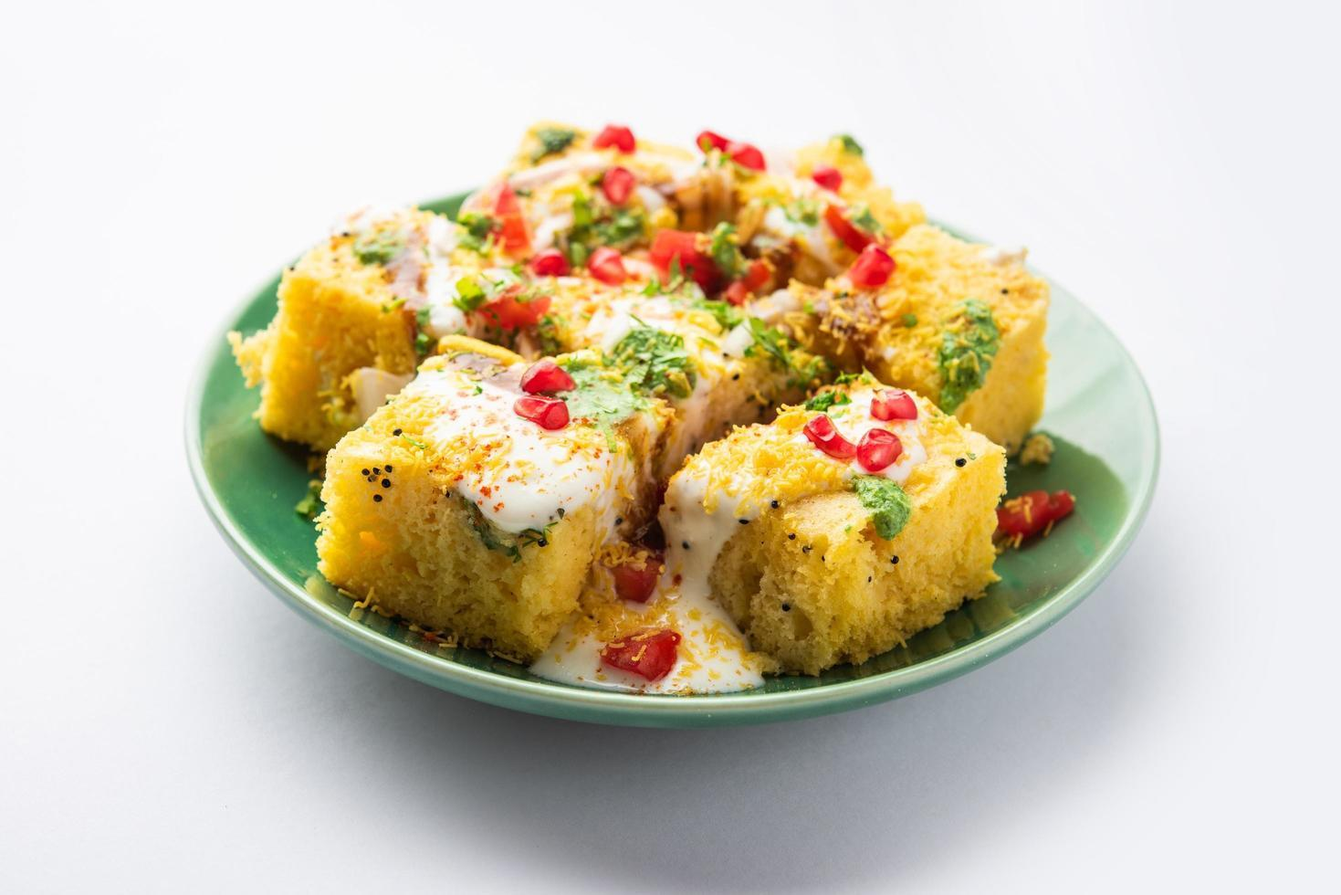yellow dhokla: (260, 110, 1056, 679)
